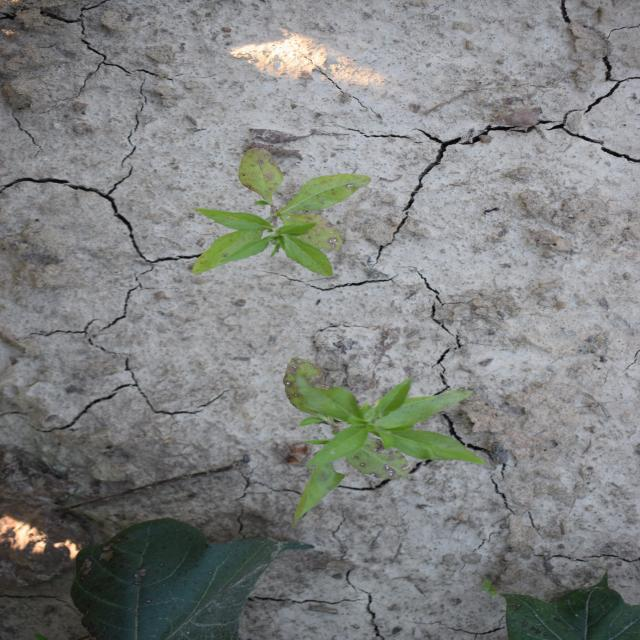Eclipta: (281, 356, 487, 528), (192, 147, 373, 279)
